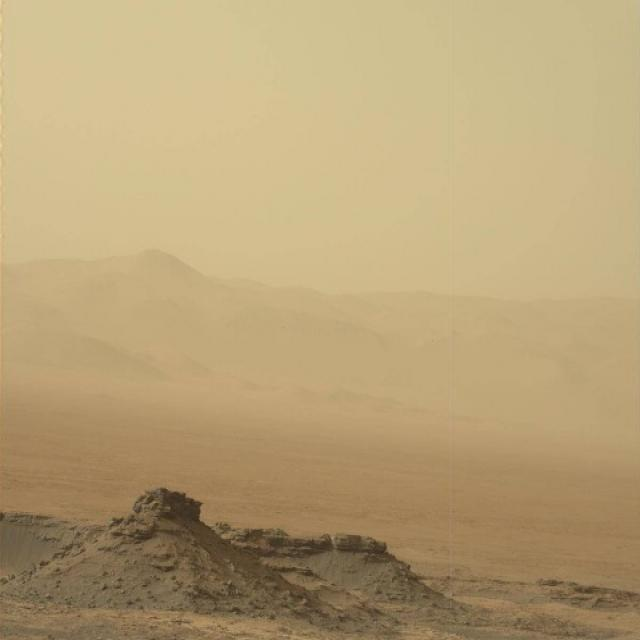rock: (204, 513, 396, 558), (125, 482, 211, 540)
